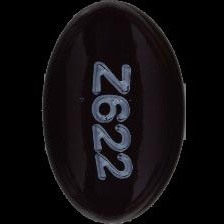68151-1928: (0, 0, 224, 224)
